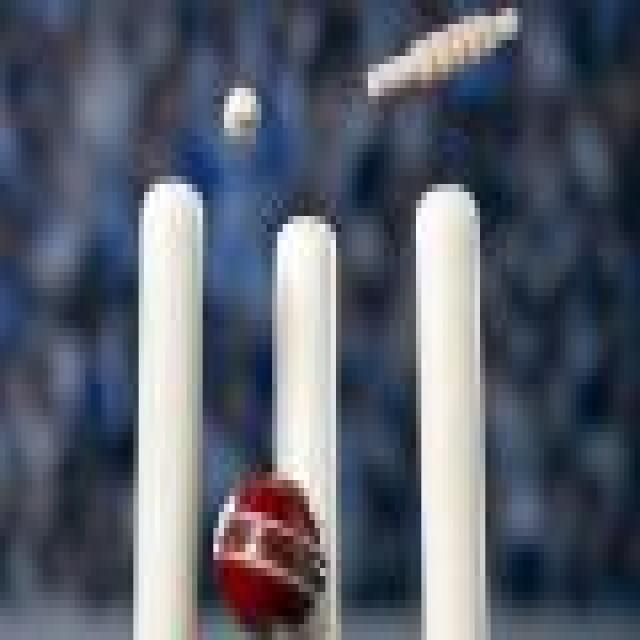stump: (132, 173, 487, 640)
